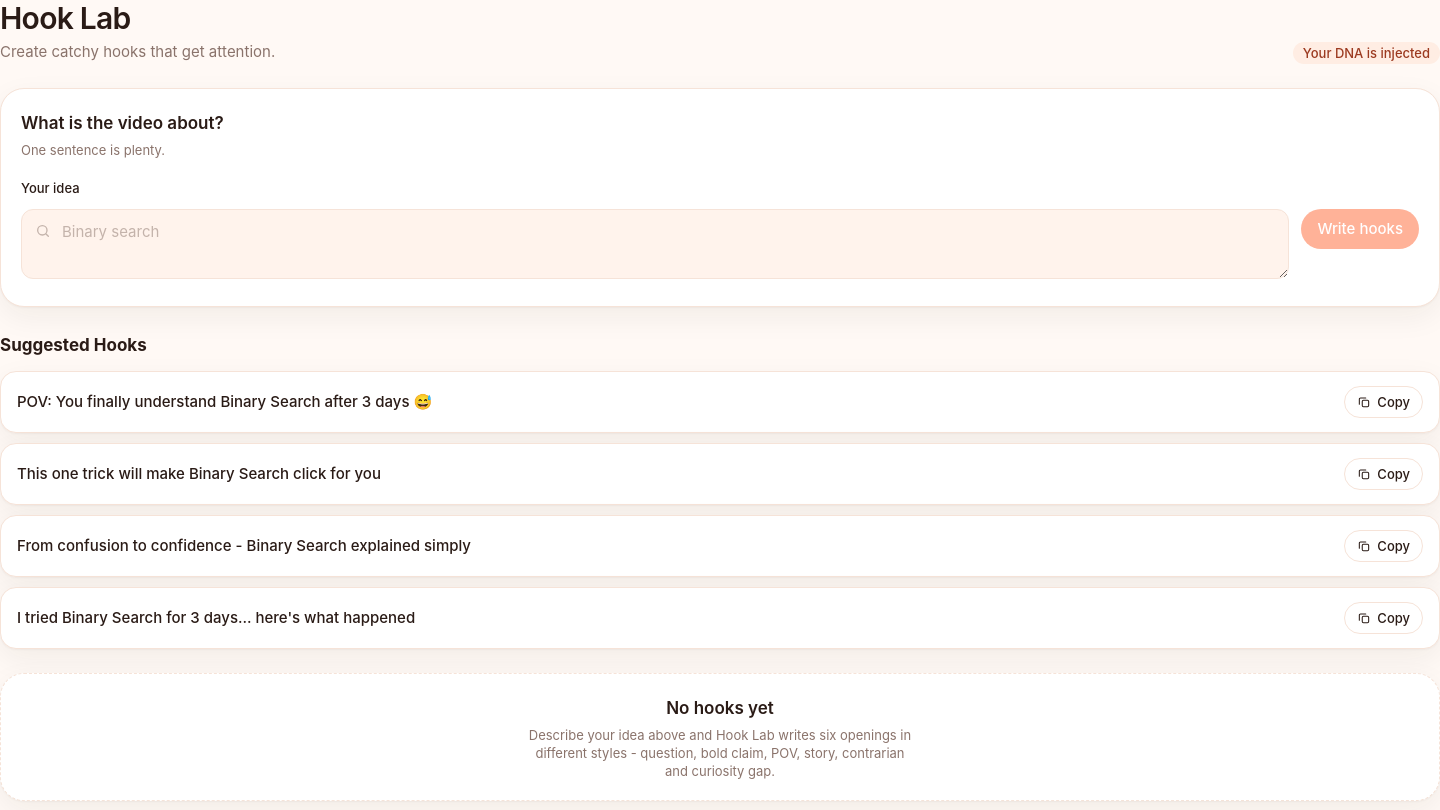
Test: HookLabPage › lets the creator select one hook
This screenshot has width=1440, height=810.
Type "Explain binary search" into the text box labelled "Your idea" at [655, 244], box [21,209,1289,279]
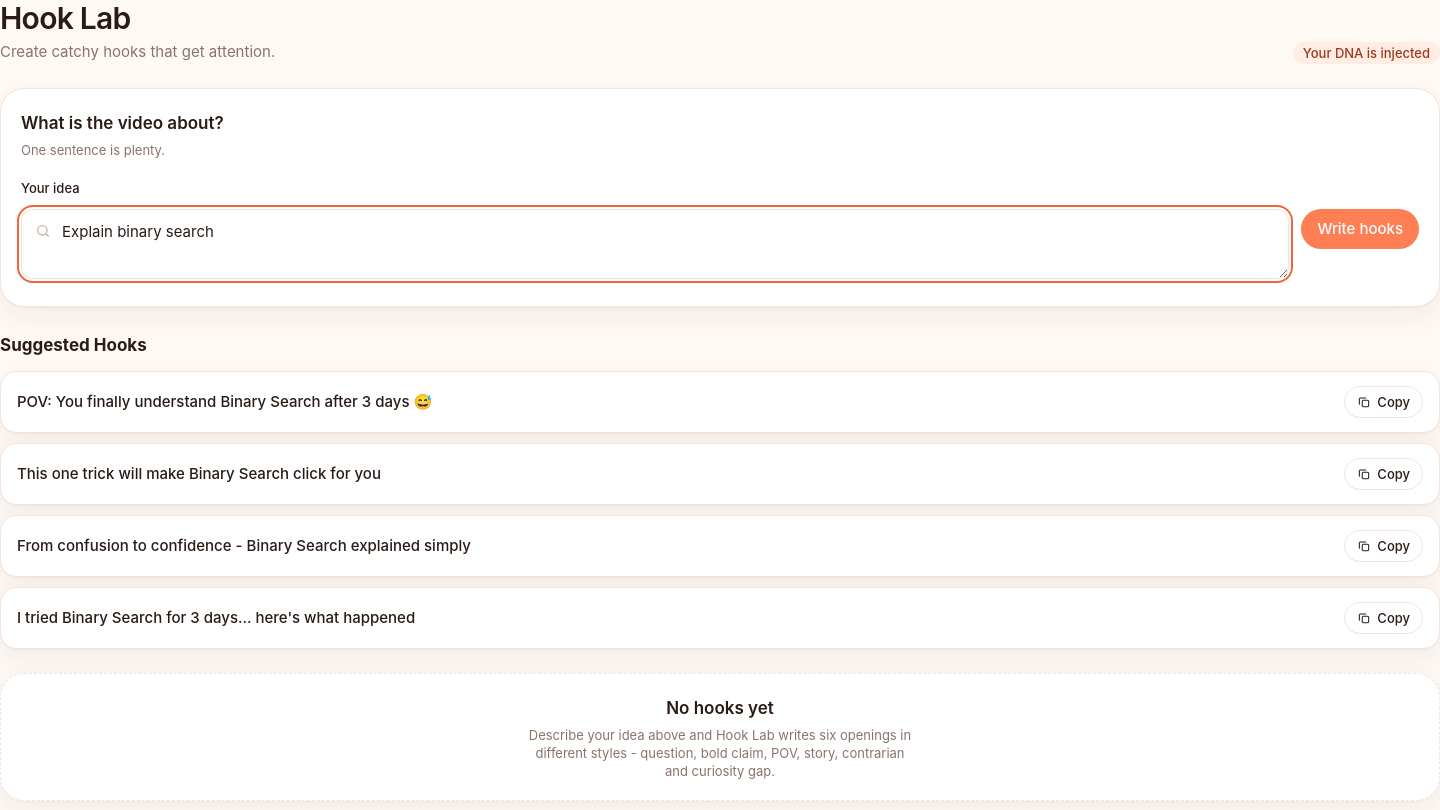
Click the button "Write hooks" at [1360, 229], box [1301,209,1419,249]
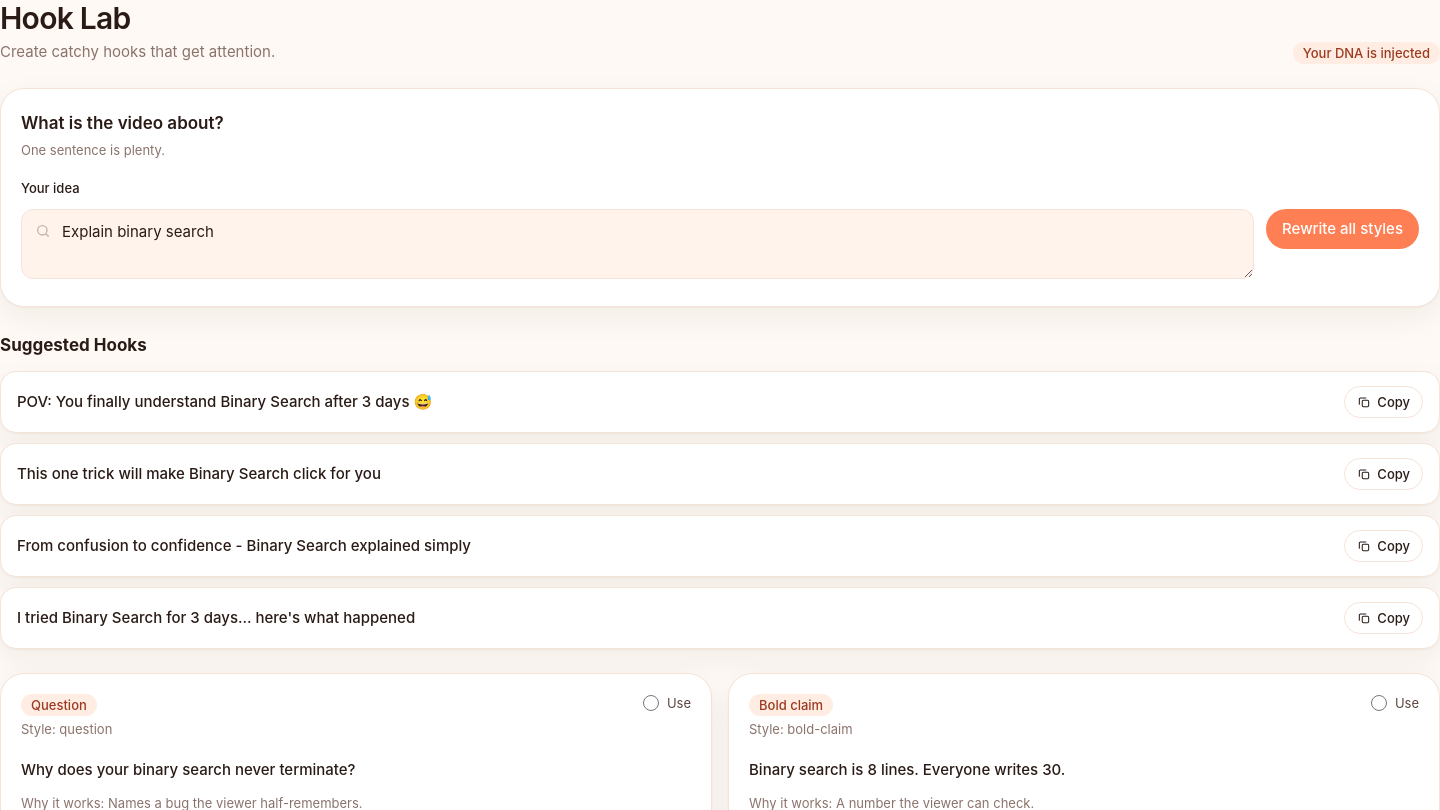
Click the 1st radio button labelled "Use" at [651, 702], box [643,694,659,710]
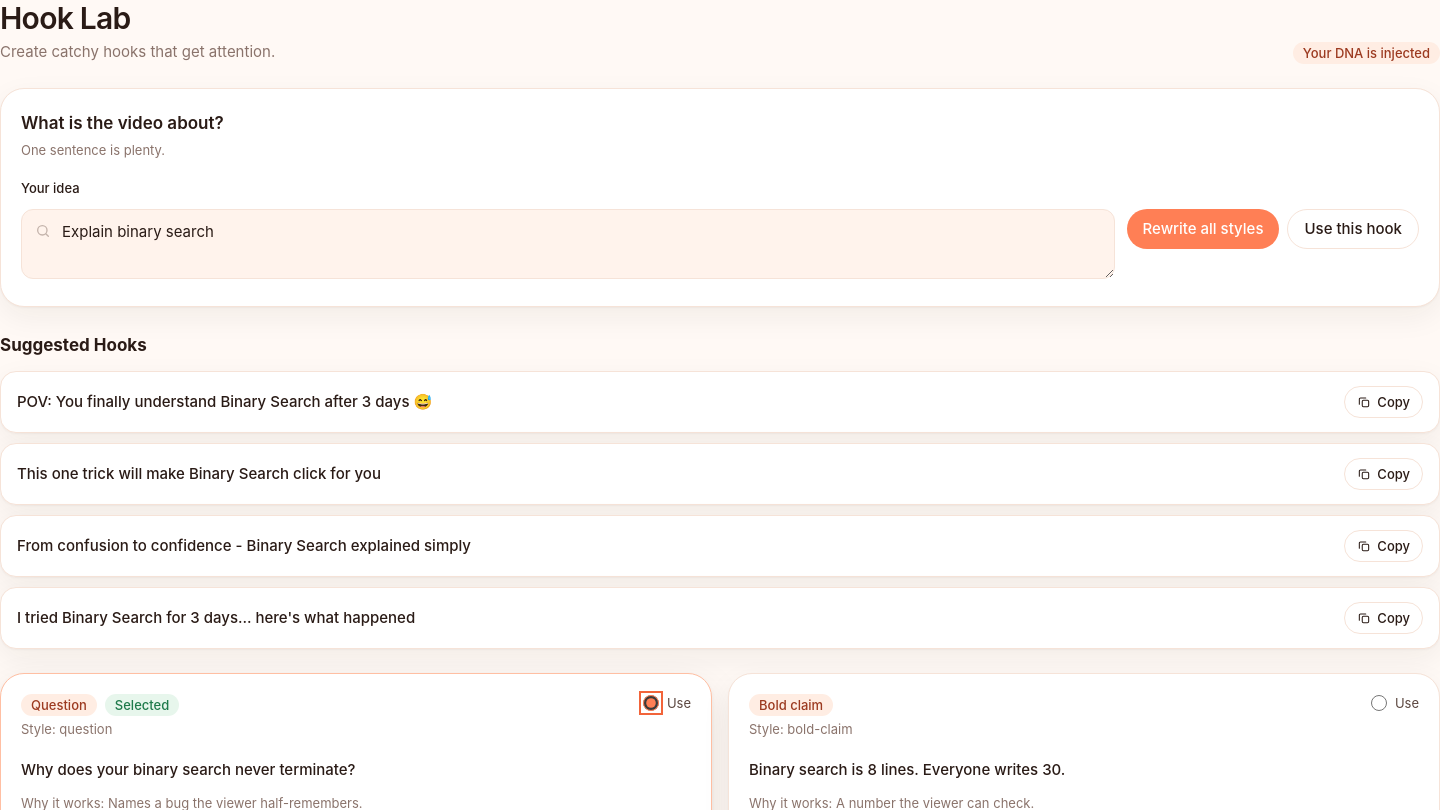
Expected: the text "Selected" is shown, [105,694,179,716]
Expected: the button "Use this hook" is shown, [1288,209,1419,249]
